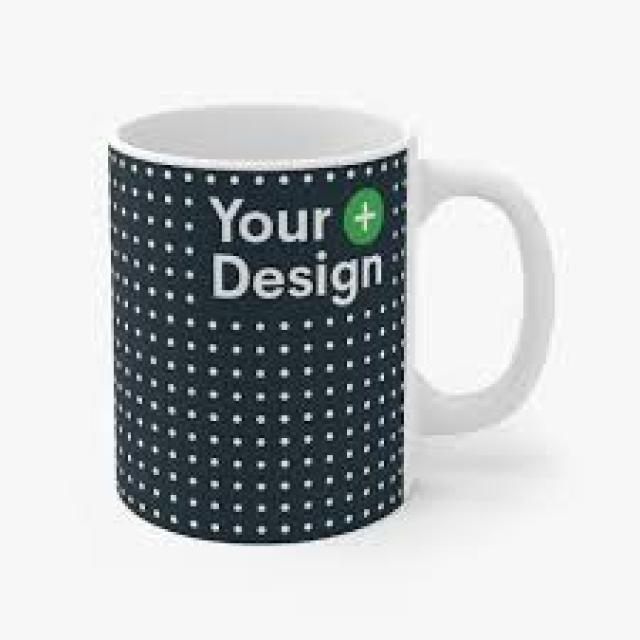taza: (106, 101, 554, 546)
